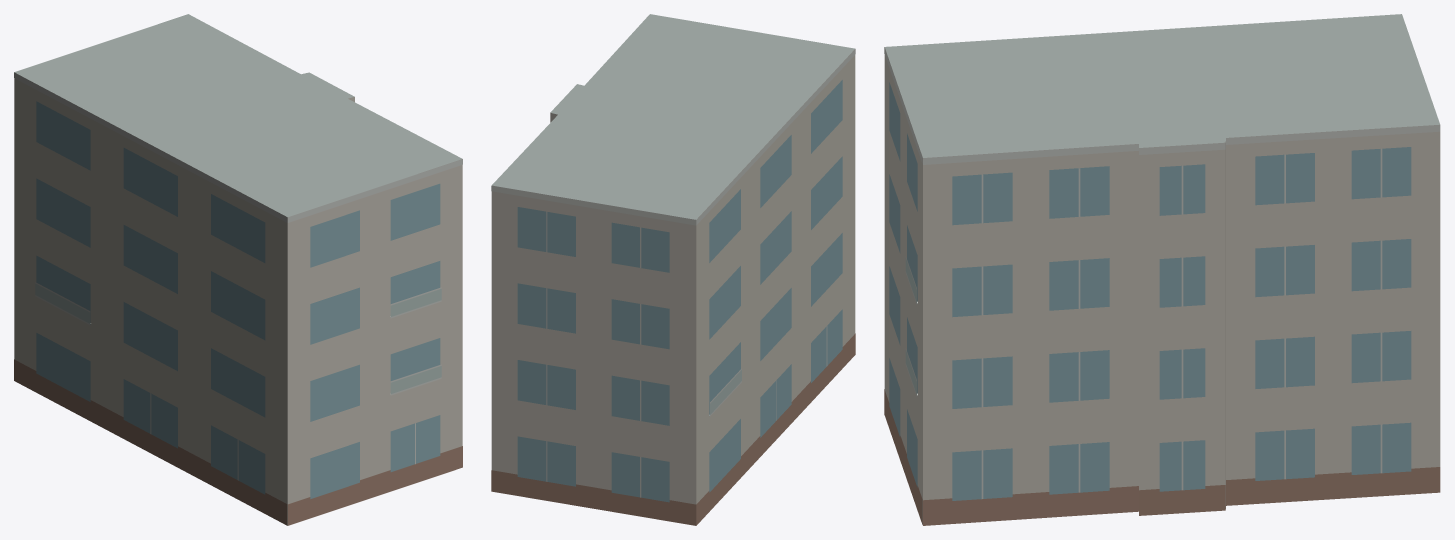
Rendered from survey-upis-32767553.glb.
3 views of the same model, side by side, from view 1: azimuth 30°, elevation 25°; view 2: azimuth 150°, elevation 25°; view 3: azimuth 270°, elevation 25° (orthographic). The views are drawn at different scales.
Visible parts, largest first — view 1: survey-upis-32767553.tmp; view 2: survey-upis-32767553.tmp; view 3: survey-upis-32767553.tmp.
Boxes of the visible parts, bbox=[...] form: survey-upis-32767553.tmp: bbox=[14, 14, 462, 525]; survey-upis-32767553.tmp: bbox=[491, 14, 855, 525]; survey-upis-32767553.tmp: bbox=[884, 14, 1440, 525].
Bounding box in the file's own units: 10.85 × 12.9 × 17.68.
